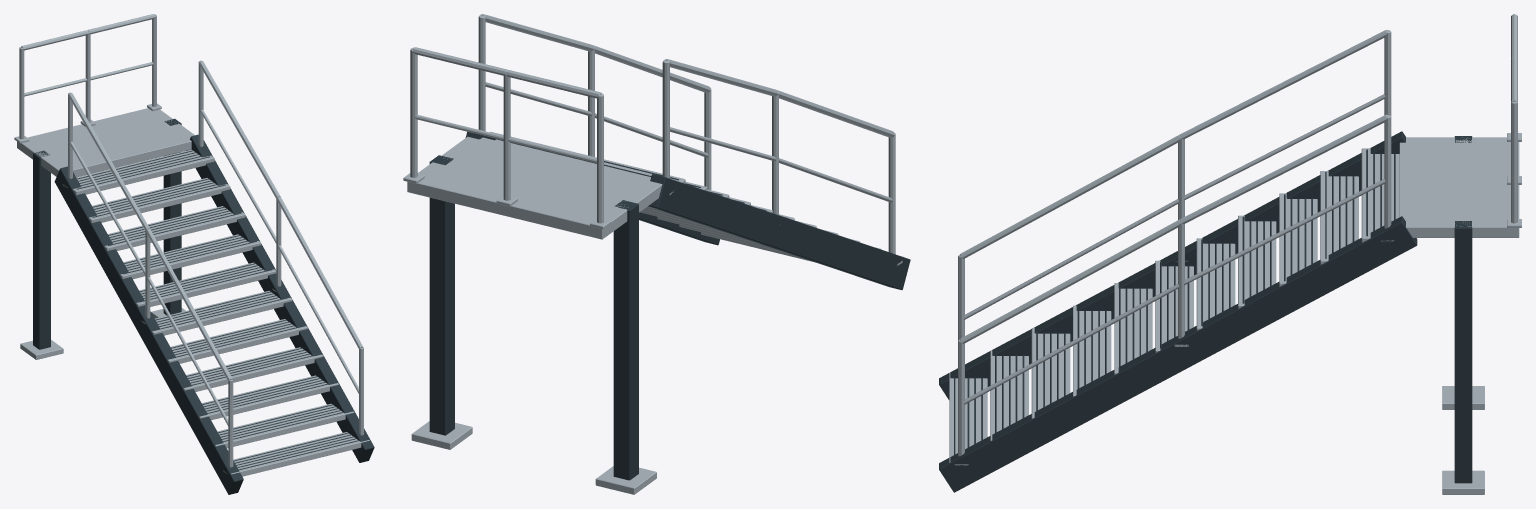
Rendered from b13_open_steel_transit_access_stair.glb.
The picture shows the model from 3 angles, left to right: view 1: azimuth 30°, elevation 25°; view 2: azimuth 150°, elevation 25°; view 3: azimuth 270°, elevation 25°; orthographic projection. The views are drawn at different scales.
Parts seen in each view (by area): view 1: b13_open_steel_transit_access_stair; view 2: b13_open_steel_transit_access_stair; view 3: b13_open_steel_transit_access_stair.
Part boxes in pixels (x1,y1,x2,y2): b13_open_steel_transit_access_stair: (14, 14, 374, 494); b13_open_steel_transit_access_stair: (403, 14, 910, 494); b13_open_steel_transit_access_stair: (939, 14, 1521, 494).
Size of the model in its own units: 1.77 by 3.13 by 4.24.
